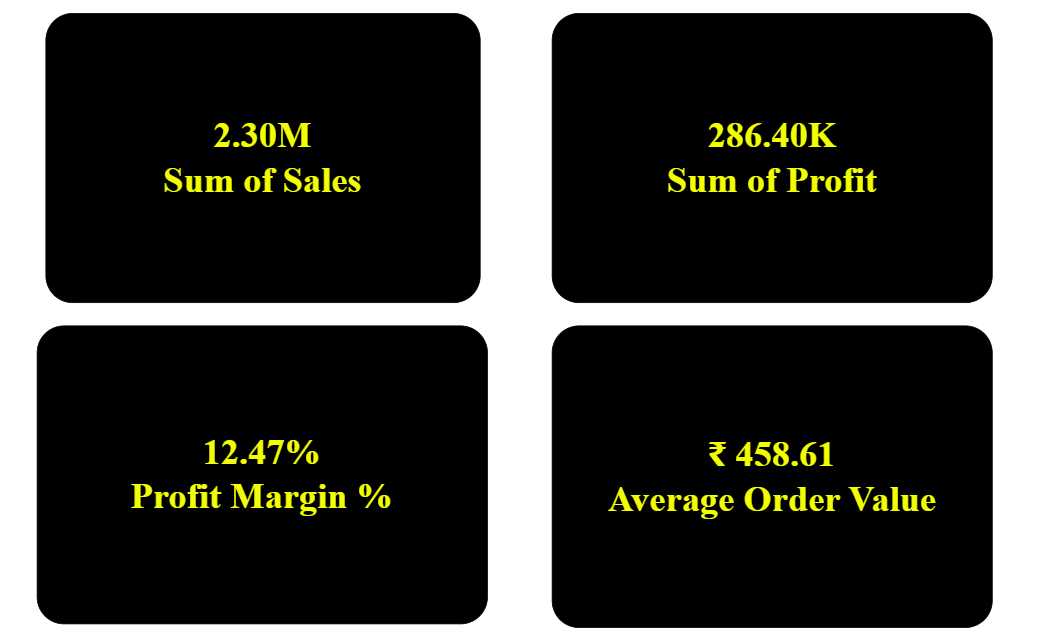

The dashboard page shown, as its layout file describes it:
{"tool":"powerbi","page":{"name":"Page 2","canvas":[1280,720],"ordinal":1},"visuals":[{"type":"cardVisual","fields":{"Data":["Sum(Superstore.Sales)"]},"box":[63.1,27.4,477.5,318.4],"z":0},{"type":"cardVisual","fields":{"Data":["Sum(Superstore.Profit)"]},"box":[618.9,27.4,484.4,318.4],"z":1000},{"type":"cardVisual","fields":{"Data":["Superstore.Profit Margin %"]},"box":[53.5,370.5,495.4,328],"z":2000},{"type":"cardVisual","fields":{"Data":["Superstore.Average Order Value"]},"box":[618.9,370.5,484.4,332.1],"z":3000}]}

Visuals, with their boxes on the page's 1280x720 design canvas (x1, y1, x2, y2). These are canvas units, not pixel positions in the 1045x640 screenshot, which may show the page scaled, cropped or inside an application window:
cardVisual - Sum(Superstore.Sales): bbox=(63, 27, 541, 346)
cardVisual - Sum(Superstore.Profit): bbox=(619, 27, 1103, 346)
cardVisual - Superstore.Profit Margin %: bbox=(54, 370, 549, 698)
cardVisual - Superstore.Average Order Value: bbox=(619, 370, 1103, 703)
